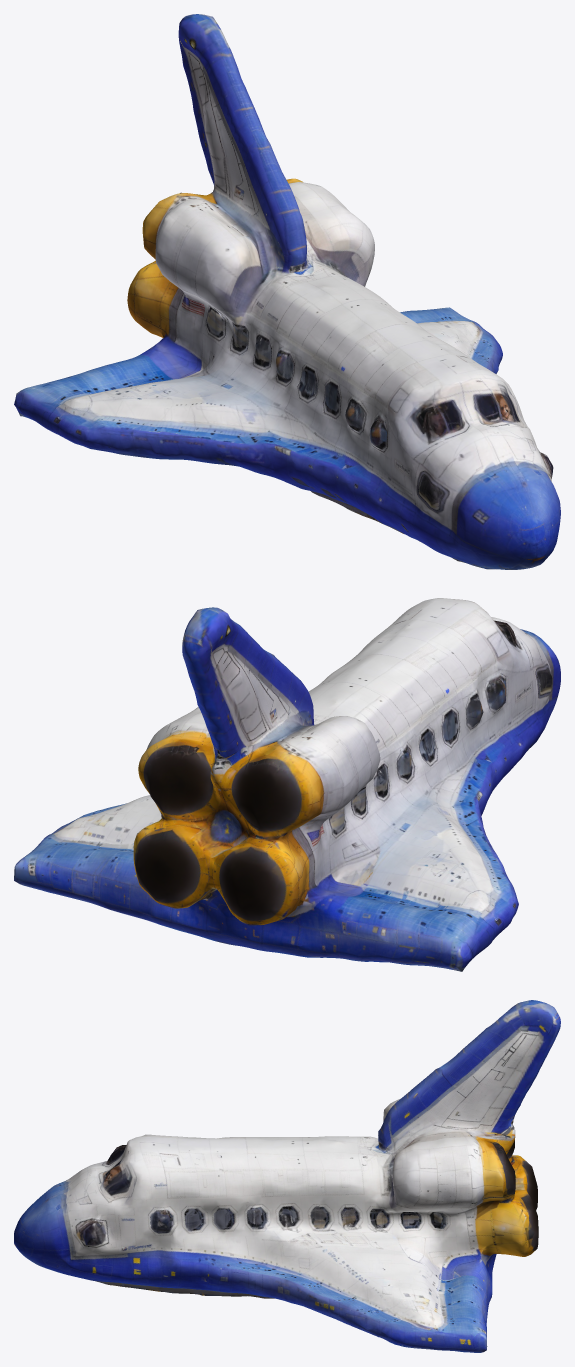
The model's file is dirigibile.obj.
The picture shows the model from 3 angles, top to bottom: view 1: azimuth 30°, elevation 25°; view 2: azimuth 150°, elevation 25°; view 3: azimuth 270°, elevation 25°; orthographic projection. The views are drawn at different scales.
Parts seen in each view (by area): view 1: Mesh_0; view 2: Mesh_0; view 3: Mesh_0.
Part boxes in pixels (bbox=[...]): Mesh_0: bbox=[14, 14, 560, 569]; Mesh_0: bbox=[14, 598, 560, 971]; Mesh_0: bbox=[14, 1000, 560, 1352].
Bounding box in the file's own units: 0.8795 × 0.7142 × 1.2.
1 material, 1 textured.
